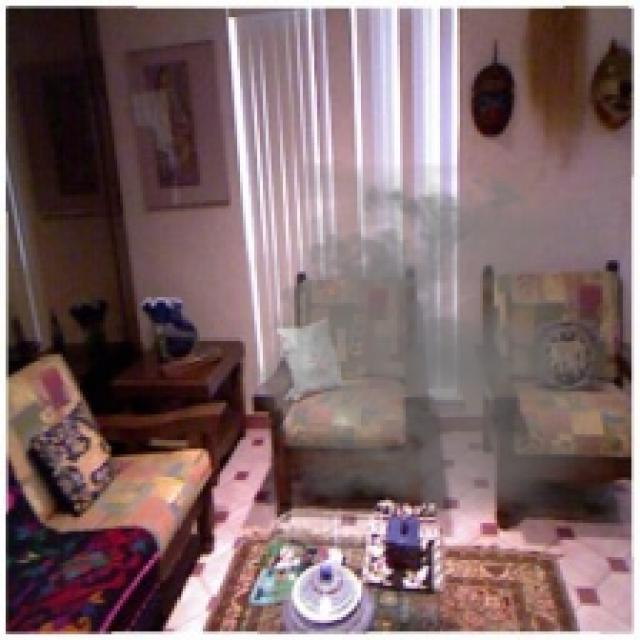Smoke: (235, 163, 614, 523)
